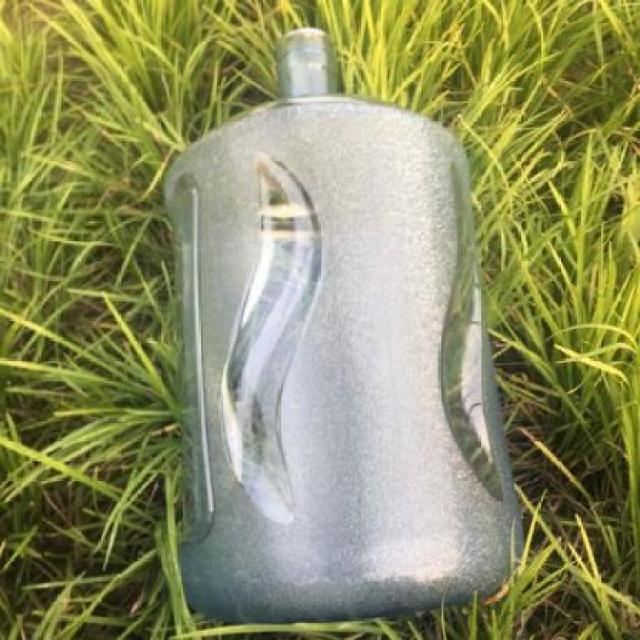coolerbottle: (162, 23, 529, 632)
